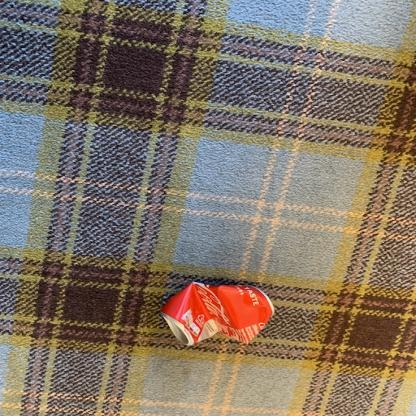trash: (144, 266, 280, 349)
